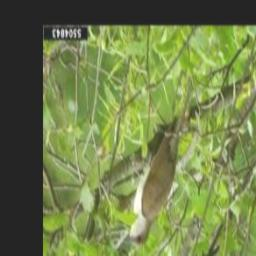Cuckoo: (126, 78, 193, 245)
